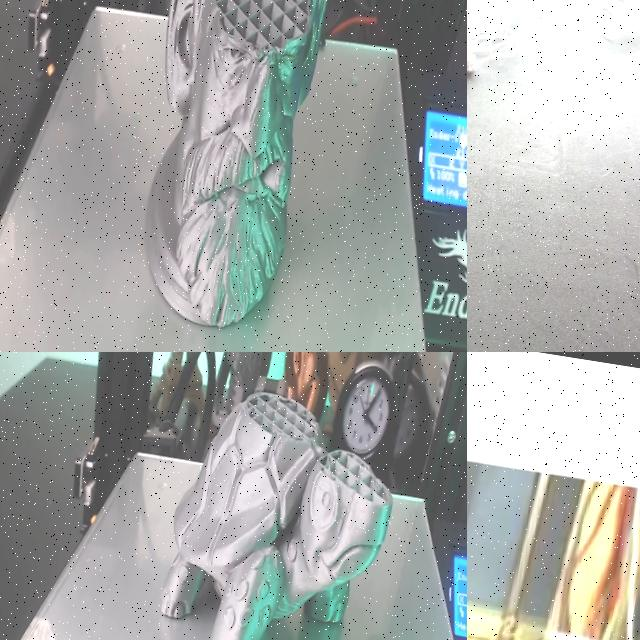spaghetti: (467, 0, 640, 242), (467, 462, 640, 640)
